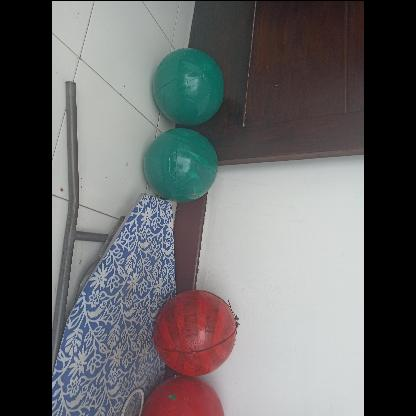red_ball: (156, 290, 238, 372)
